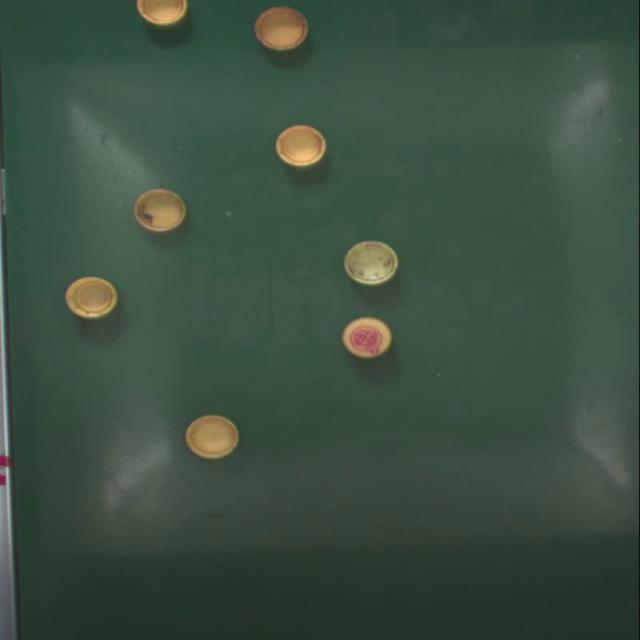others: (185, 416, 239, 460), (344, 241, 398, 284), (132, 190, 186, 233), (274, 124, 328, 167), (255, 8, 308, 51), (65, 277, 118, 319), (341, 317, 393, 358), (135, 0, 188, 26)
